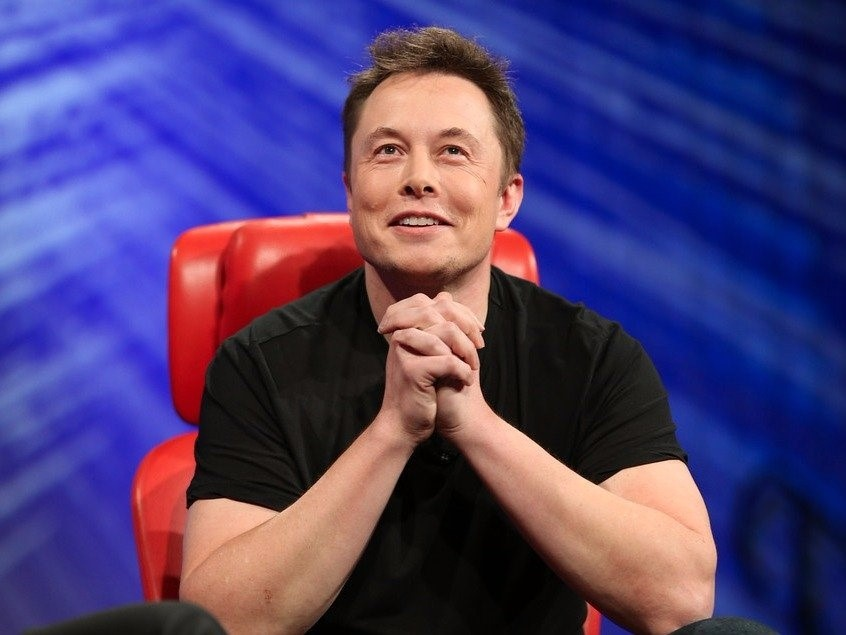face_no_mask: (343, 29, 522, 272)
